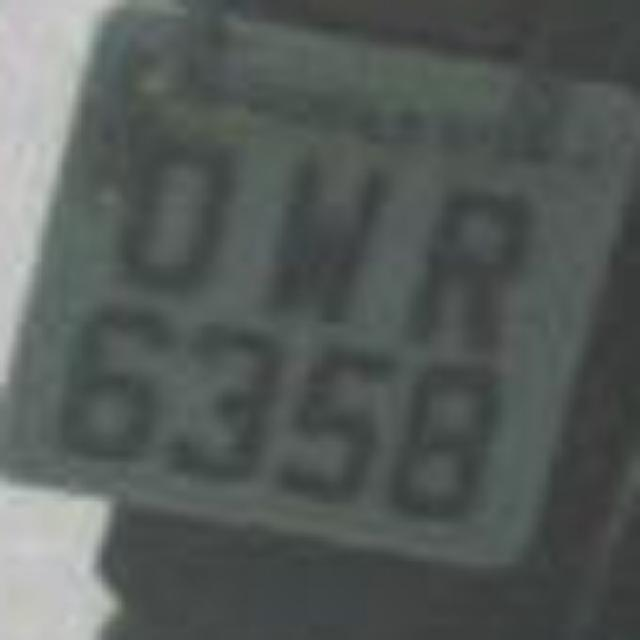3: (145, 291, 300, 504)
5: (256, 328, 404, 512)
6: (32, 275, 180, 480)
8: (368, 344, 512, 548)
O: (100, 115, 252, 300)
R: (396, 172, 544, 352)
